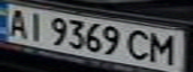3: (63, 18, 87, 51)
6: (81, 21, 103, 54)
9: (42, 15, 69, 47), (100, 24, 124, 57)
A: (3, 6, 30, 38)
C: (124, 28, 154, 62)
I: (21, 10, 48, 42)
M: (148, 30, 184, 65)
